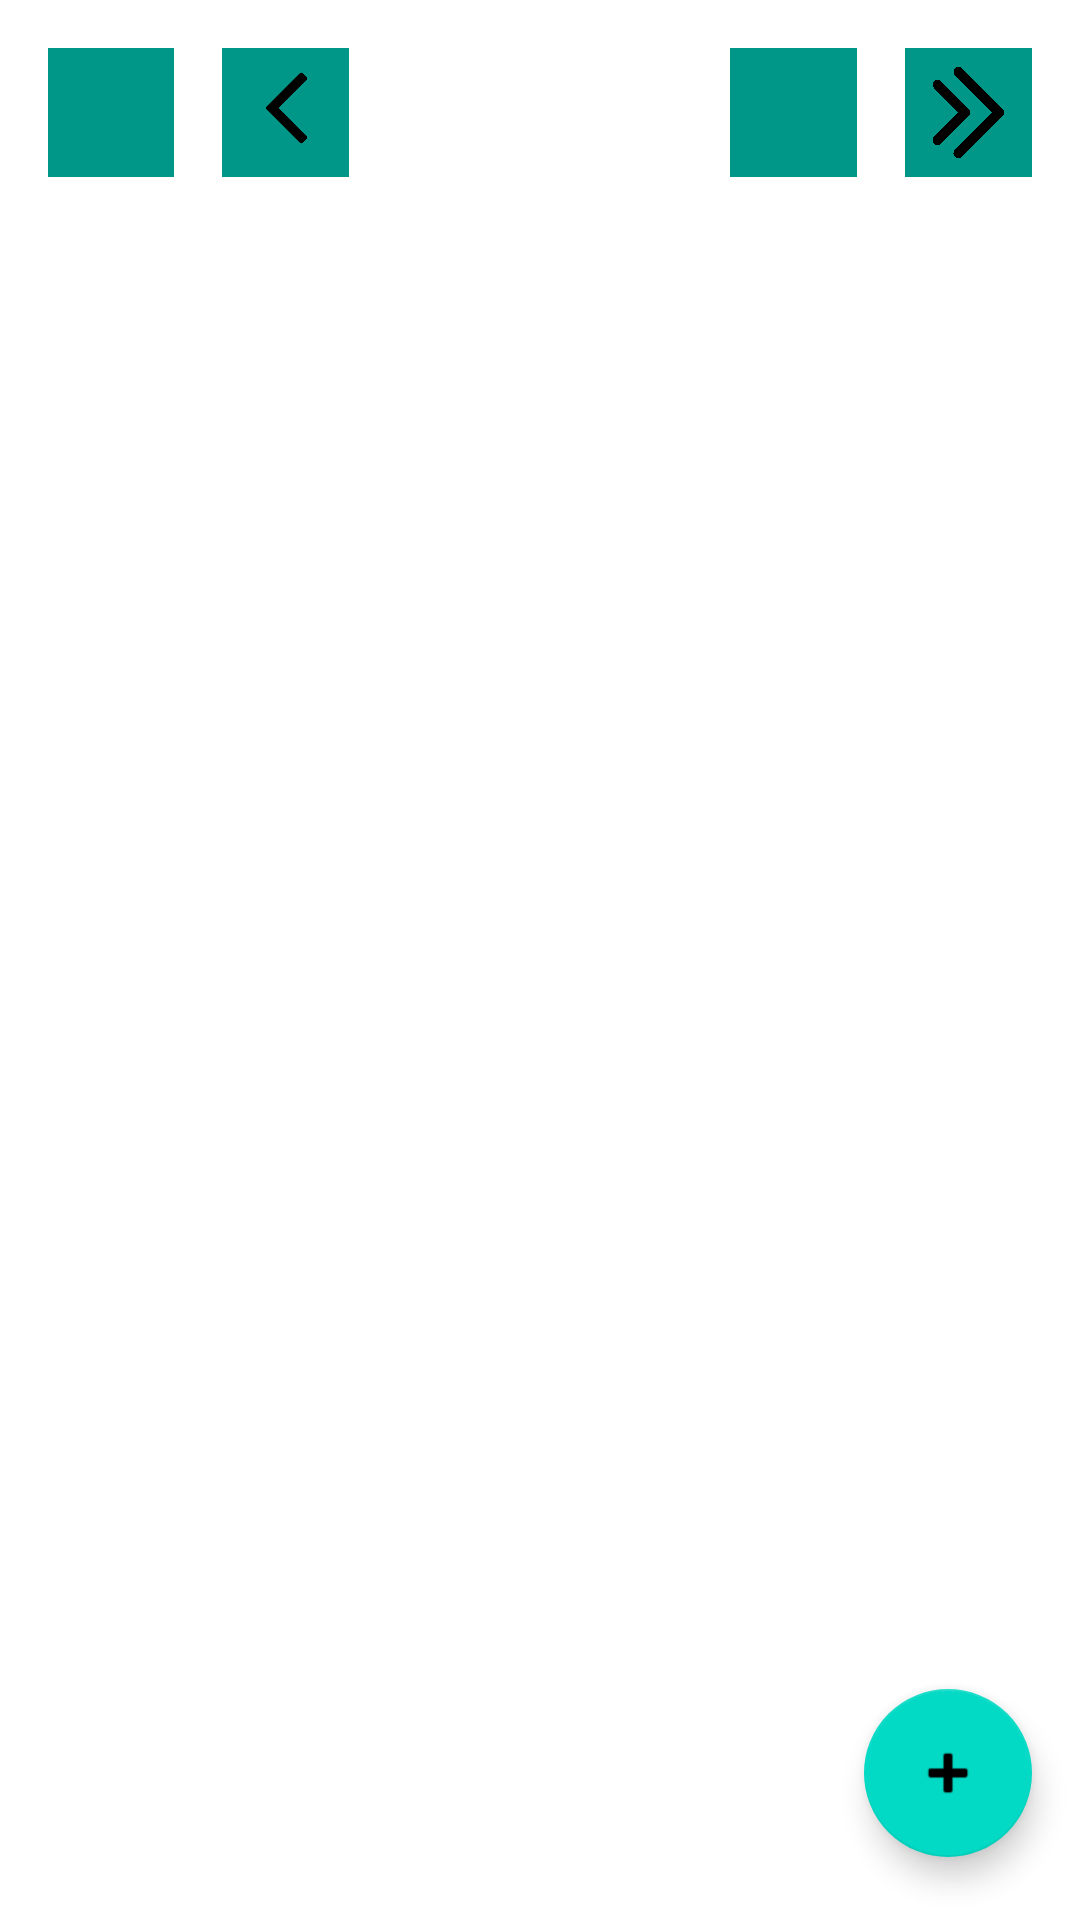

Screen size 1080 x 1920. Icon name, then its box in pixels as {"left": x1, "top": y1, "right": x2, "bottom": y2}:
add: {"left": 864, "top": 1689, "right": 1032, "bottom": 1857}
one left: {"left": 222, "top": 48, "right": 349, "bottom": 177}
two right: {"left": 905, "top": 48, "right": 1032, "bottom": 177}
